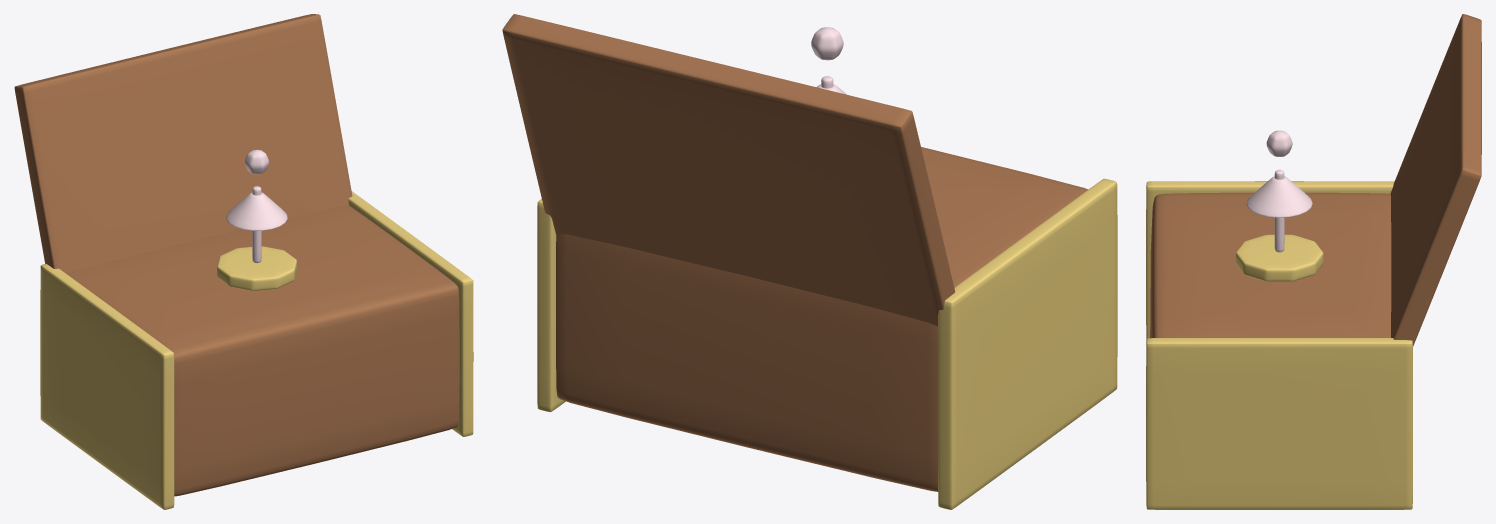
File: music_box.glb
3 views of the same model, side by side, from view 1: azimuth 30°, elevation 25°; view 2: azimuth 150°, elevation 25°; view 3: azimuth 270°, elevation 25° (orthographic). The views are drawn at different scales.
Visible parts, largest first — view 1: music_box; view 2: music_box; view 3: music_box.
Part boxes in pixels (x1,y1,x2,y2): music_box: (14, 14, 473, 509); music_box: (502, 14, 1117, 509); music_box: (1146, 14, 1481, 509).
Size of the model in its own units: 0.5199 by 0.5031 by 0.4527.
